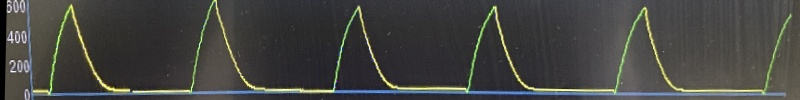normal_volume: (36, 0, 770, 100)
